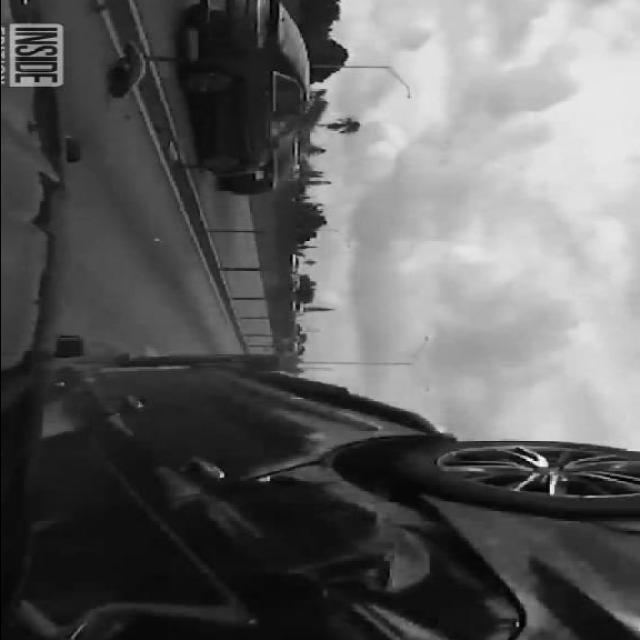accident: (16, 342, 640, 640)
